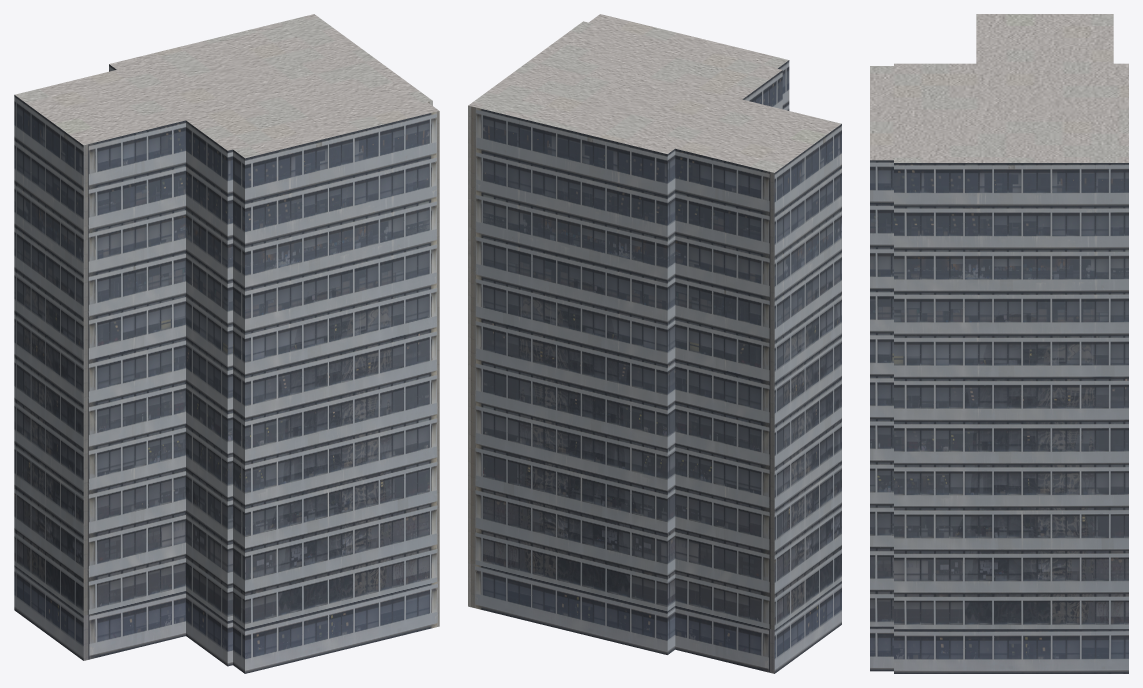
The model's file is building_11.glb.
The picture shows the model from 3 angles, left to right: view 1: azimuth 30°, elevation 25°; view 2: azimuth 150°, elevation 25°; view 3: azimuth 270°, elevation 25°; orthographic projection. The views are drawn at different scales.
Visible parts, largest first — view 1: building_014; view 2: building_014; view 3: building_014.
Part boxes in pixels (x1,y1,x2,y2): building_014: (14,14,439,673); building_014: (468,14,841,673); building_014: (870,14,1128,673).
Size of the model in its own units: 153 by 245 by 113.
2 materials, 2 textured.
